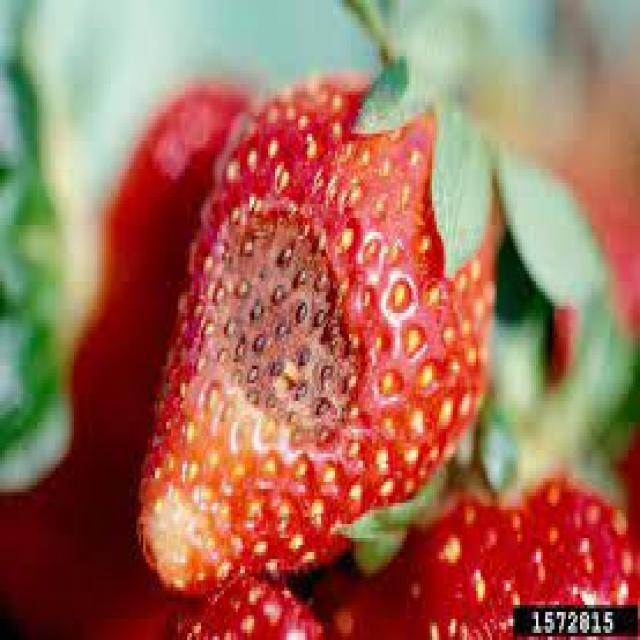Mancha negra Antracnosis: (142, 29, 500, 586)
